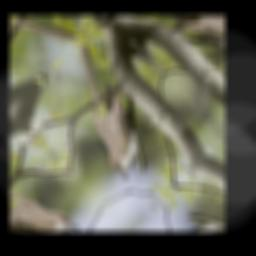Cuckoo: (33, 41, 175, 183)
